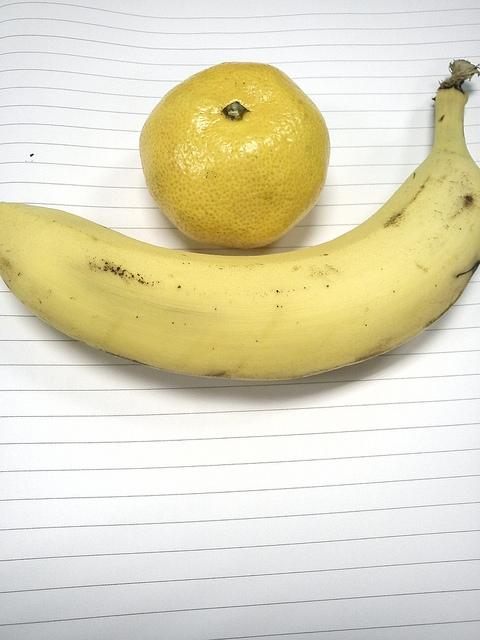banana: (0, 59, 480, 381)
orange: (140, 62, 330, 250)
